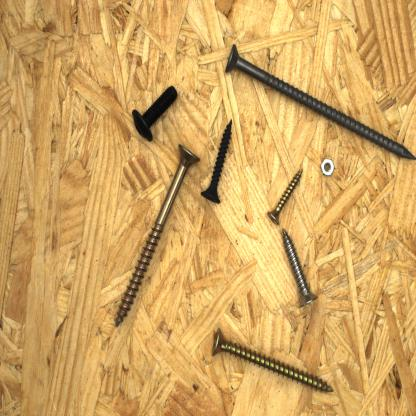screw: (224, 42, 416, 164), (113, 139, 203, 333), (206, 323, 336, 397), (197, 114, 236, 209), (127, 82, 182, 147), (280, 226, 321, 310), (264, 164, 306, 228)
